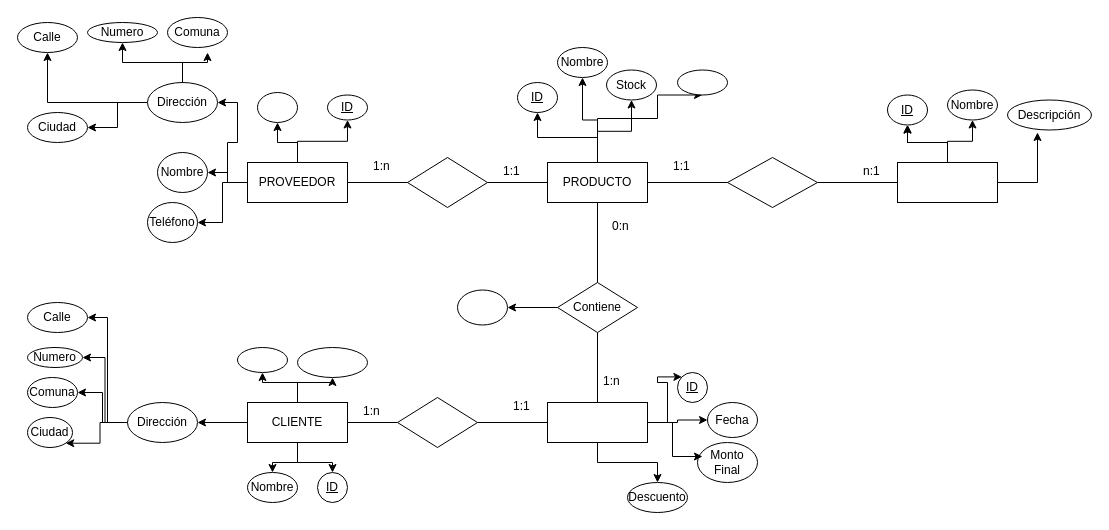
This 1109x530 diagram has some shape labels left out. The shapes that lost their labels are listed below. From the top down, each one's box as (x1, y1, x2, y2) in pixels, then its label:
(676, 69, 728, 95): Precio
(256, 92, 298, 122): Web
(406, 156, 488, 208): Suministra
(726, 156, 818, 208): Pertenece
(896, 162, 998, 202): Categoría
(456, 289, 508, 325): Cantidad
(236, 346, 288, 372): Telefono
(296, 346, 368, 378): Telefono2
(396, 396, 478, 448): Realiza
(546, 402, 648, 442): VENTA
